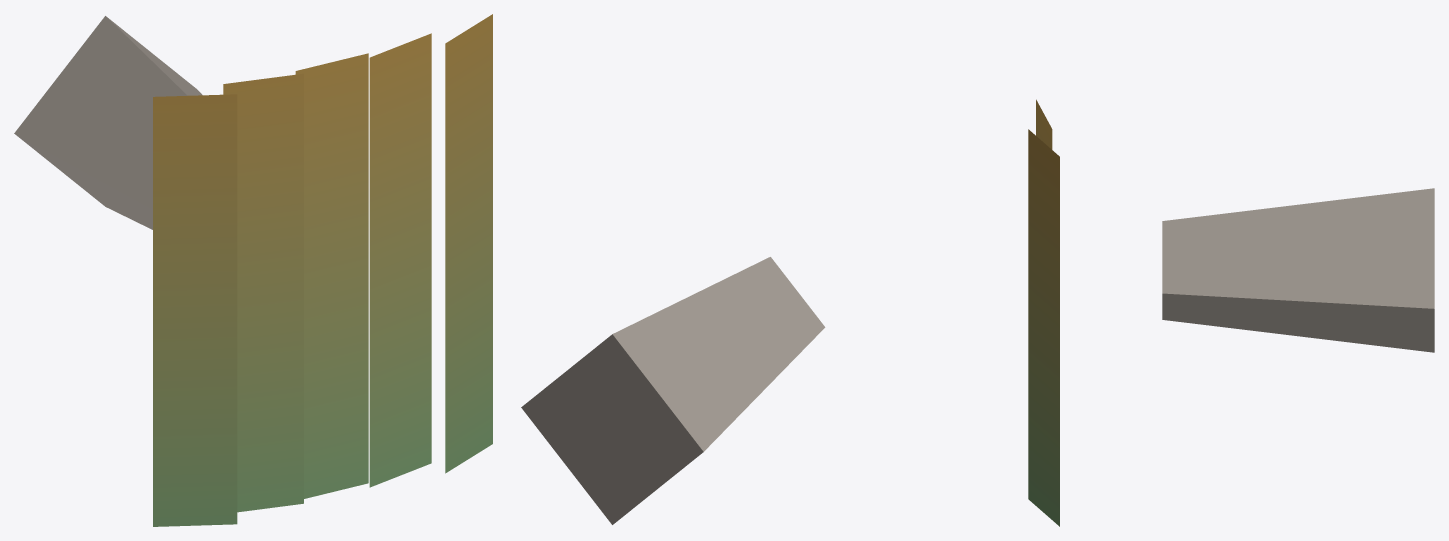
The model's file is tail_fan.glb.
The picture shows the model from 3 angles, left to right: view 1: azimuth 30°, elevation 25°; view 2: azimuth 150°, elevation 25°; view 3: azimuth 270°, elevation 25°; orthographic projection. The views are drawn at different scales.
Size of the model in its own units: 0.8267 by 1 by 0.9942.
